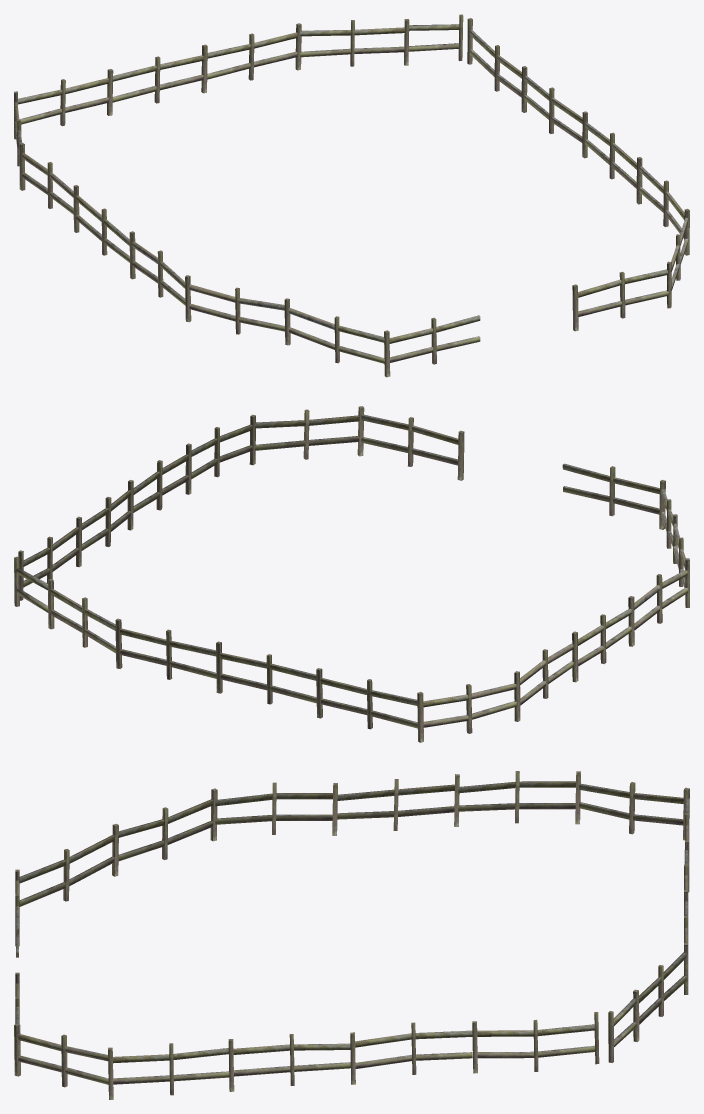
Rendered from PenB.fbx.
The picture shows the model from 3 angles, top to bottom: view 1: azimuth 30°, elevation 25°; view 2: azimuth 150°, elevation 25°; view 3: azimuth 270°, elevation 25°; orthographic projection. The views are drawn at different scales.
Parts seen in each view (by area): view 1: Fence; view 2: Fence; view 3: Fence.
Boxes of the visible parts, bbox=[...] form: Fence: bbox=[14, 14, 689, 377]; Fence: bbox=[14, 406, 689, 742]; Fence: bbox=[14, 771, 689, 1099].
Bounding box in the file's own units: 108 × 18.82 × 121.
1 material, 1 textured.
